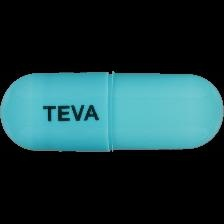0093-7670: (0, 0, 224, 224)
